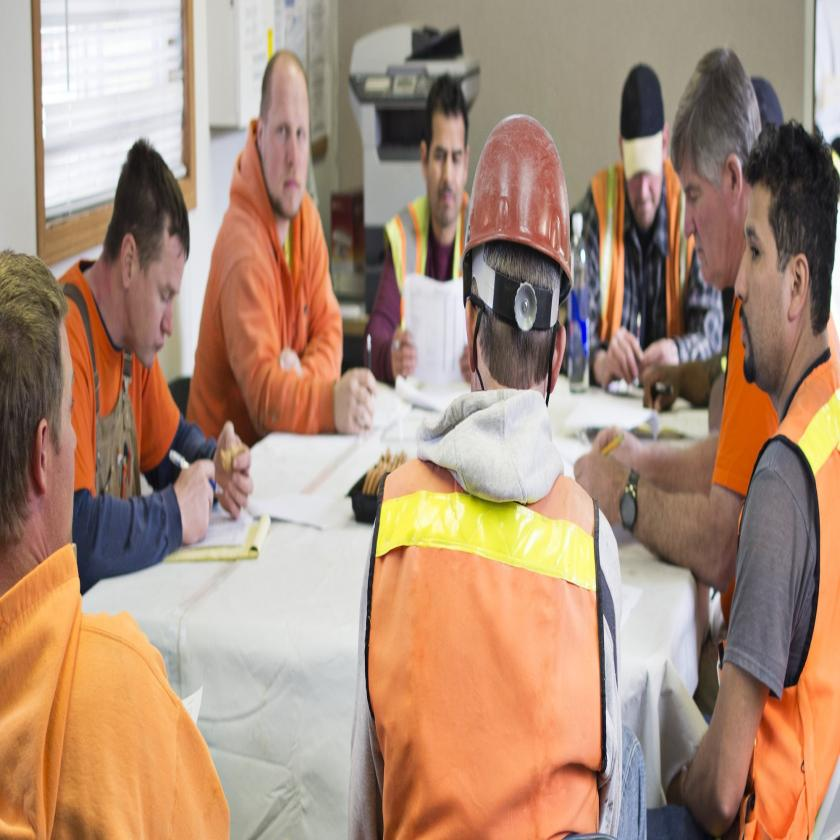Sin_casco: (735, 126, 837, 420), (0, 238, 78, 597), (671, 31, 760, 297), (105, 132, 192, 397), (257, 42, 314, 230), (420, 64, 470, 236)
